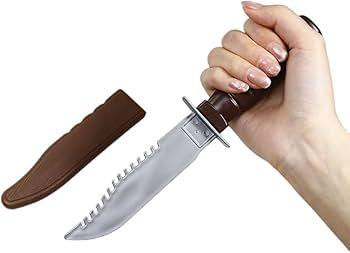Knife: (201, 0, 350, 253), (63, 91, 245, 242), (201, 0, 325, 140)
